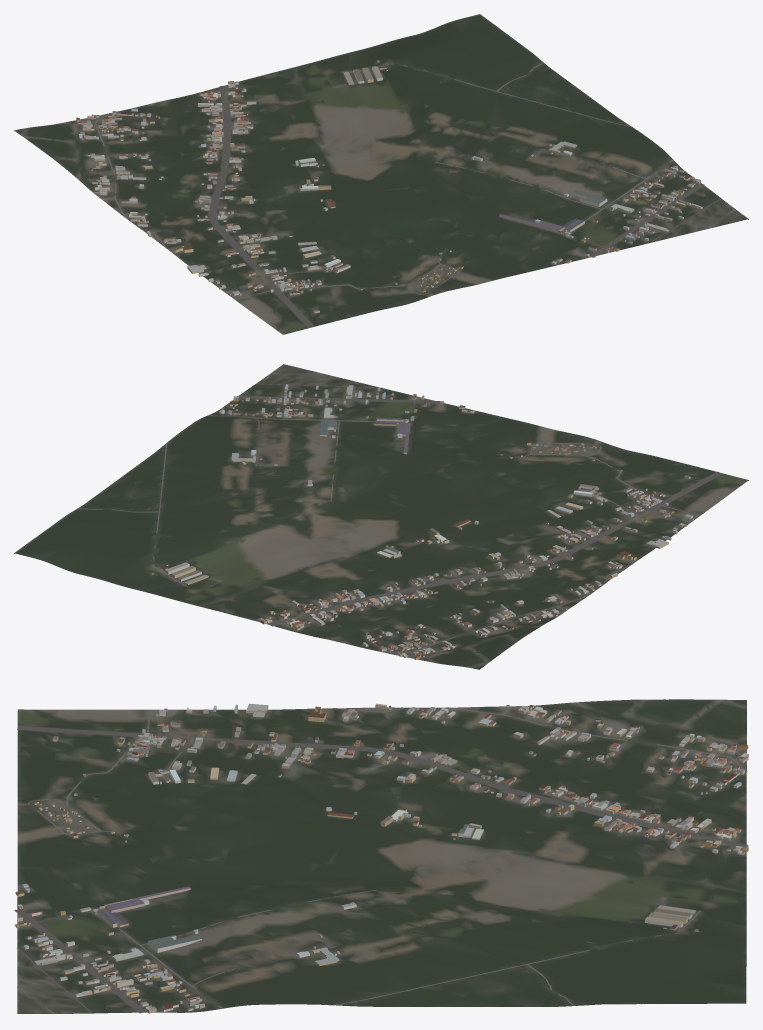
3 renders of one model, top to bottom at view 1: azimuth 30°, elevation 25°; view 2: azimuth 150°, elevation 25°; view 3: azimuth 270°, elevation 25°, orthographic. The views are drawn at different scales.
Visible parts, largest first — view 1: ground, buildings, roads; view 2: ground, buildings, roads; view 3: ground, buildings, roads.
Part boxes in pixels (box(x1,y1,x2,y2)): ground: box(14, 14, 748, 334); buildings: box(76, 60, 702, 313); roads: box(81, 62, 735, 327); ground: box(14, 364, 748, 669); buildings: box(151, 384, 693, 659); roads: box(77, 373, 722, 658); ground: box(17, 699, 746, 1013); buildings: box(15, 703, 748, 1013); roads: box(14, 707, 748, 1013).
Size of the model in its own units: 1418 by 32.94 by 1412.
